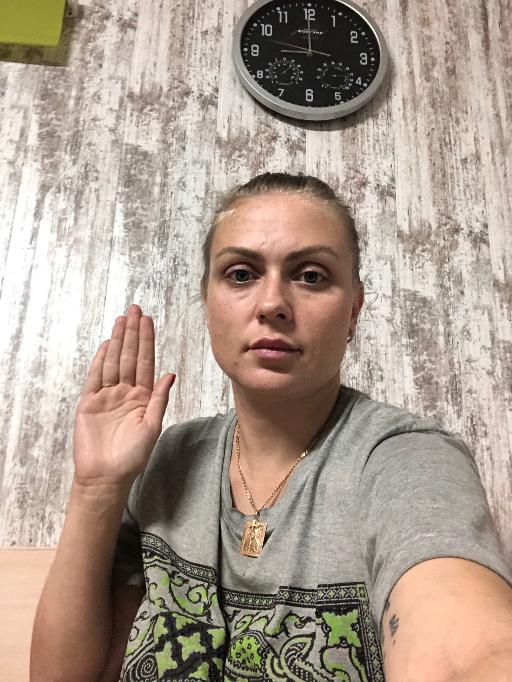stop: (70, 302, 176, 485)
